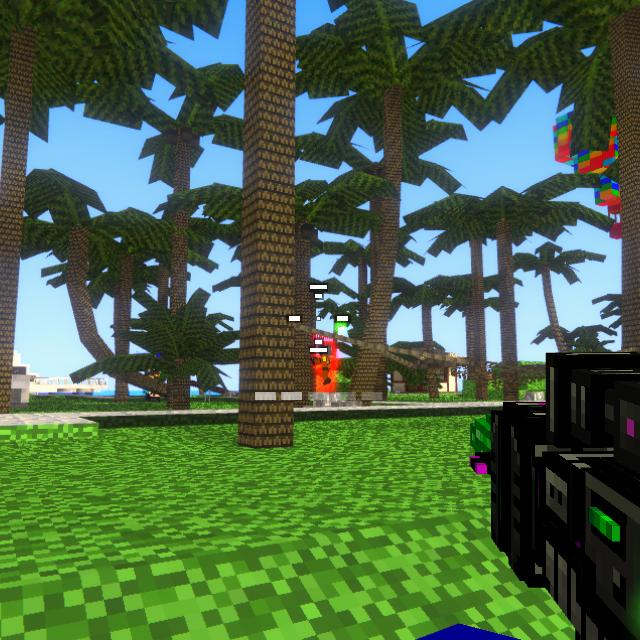Enemy: (311, 344, 335, 386)
